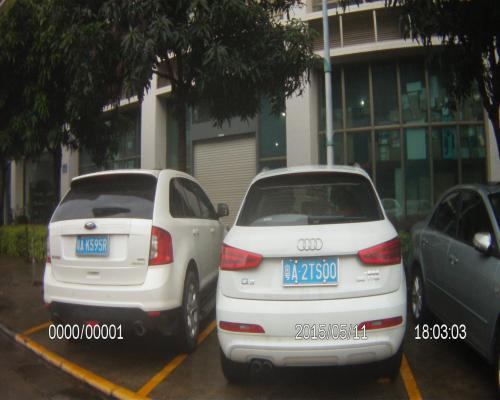Carplate: (274, 252, 342, 292), (73, 231, 115, 259)
